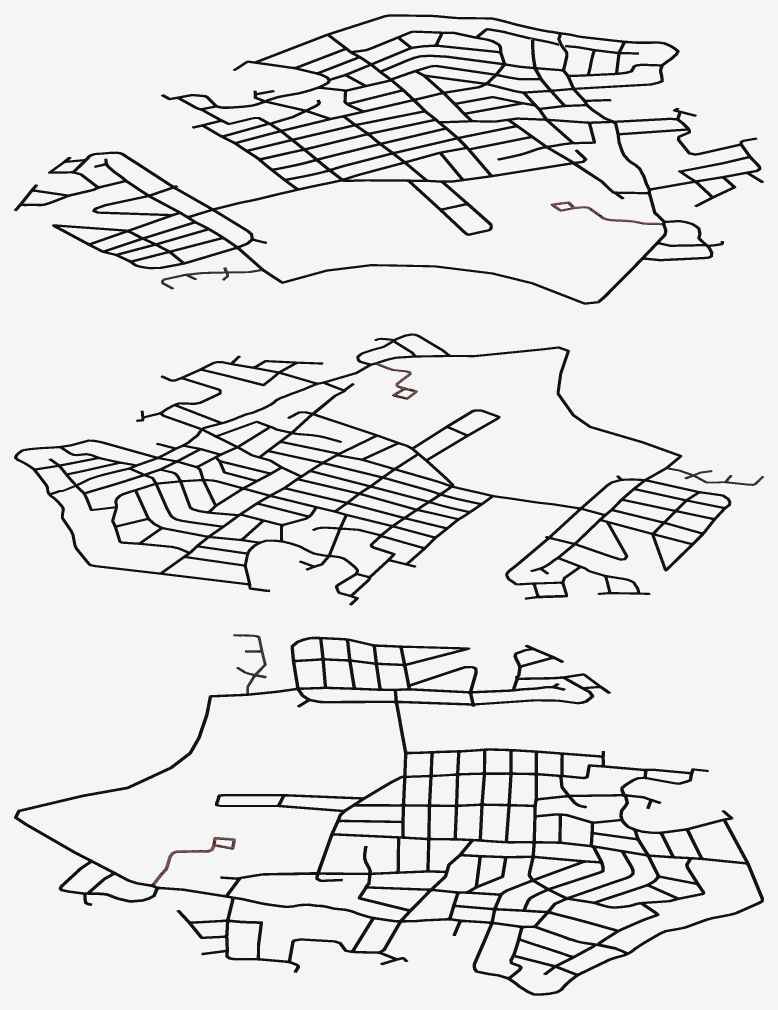
File: intstreets.glb
The picture shows the model from 3 angles, top to bottom: view 1: azimuth 30°, elevation 25°; view 2: azimuth 150°, elevation 25°; view 3: azimuth 270°, elevation 25°; orthographic projection. The views are drawn at different scales.
Visible parts, largest first — view 1: IntStreets; view 2: IntStreets; view 3: IntStreets.
Part boxes in pixels (left/top/right/bottom): IntStreets: left=14, top=14, right=763, bottom=304; IntStreets: left=14, top=333, right=763, bottom=605; IntStreets: left=14, top=634, right=763, bottom=995.
Size of the model in its own units: 3.86 by 0.1454 by 3.56.
